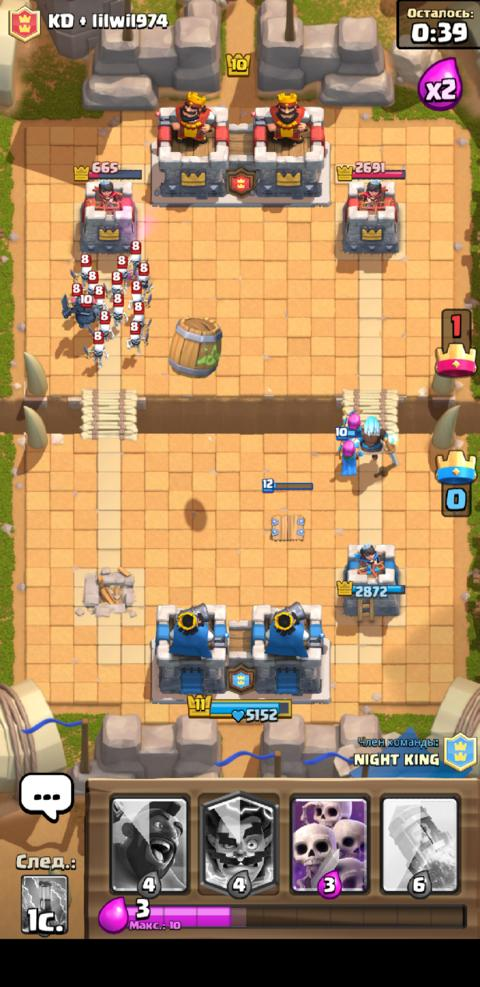ally_archer: (332, 425, 361, 476), (339, 405, 364, 433)
ally_ice_wizard: (358, 415, 396, 454)
ally_tesla_hidden: (260, 477, 314, 542)
enemy_goblin_barrel: (166, 314, 223, 380)
enemy_mini_pekka: (60, 282, 99, 327)
enemy_skeleton: (81, 329, 108, 368), (124, 320, 149, 356), (84, 310, 115, 339), (125, 278, 153, 309), (67, 252, 91, 286), (125, 239, 148, 274), (106, 291, 127, 327), (129, 300, 151, 330), (135, 262, 152, 294), (107, 269, 126, 293), (91, 282, 107, 309), (113, 254, 127, 279), (84, 270, 97, 293)
